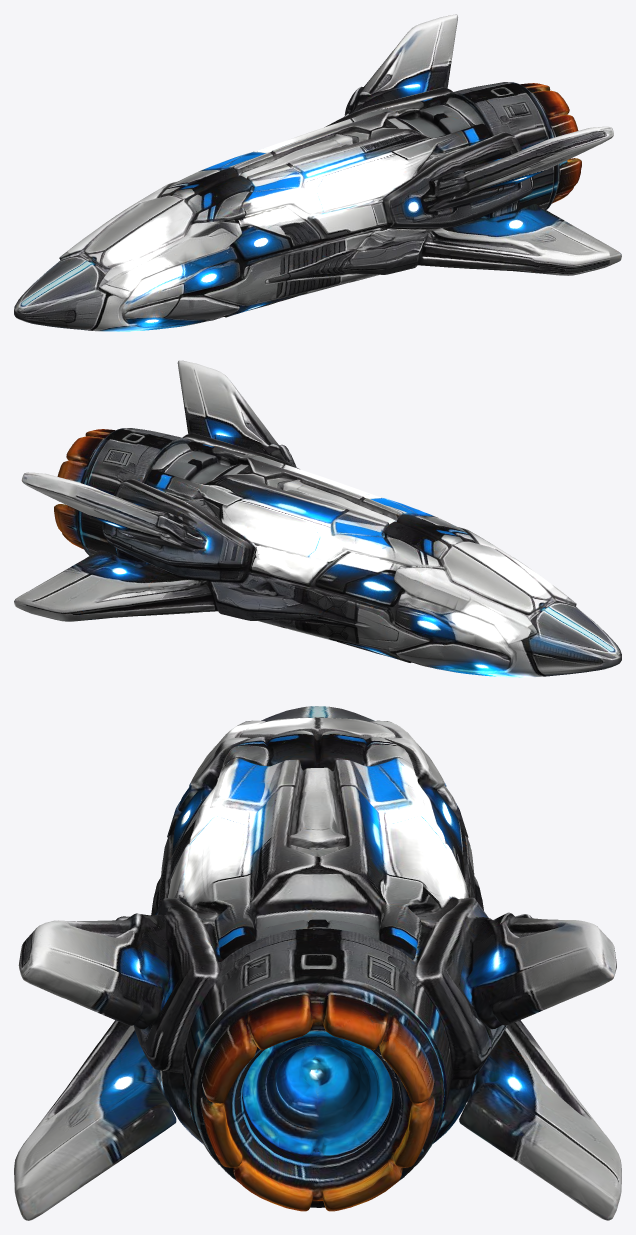
Rendered from wing_blaze.glb.
3 views of the same model, one above another, from view 1: azimuth 30°, elevation 25°; view 2: azimuth 150°, elevation 25°; view 3: azimuth 270°, elevation 25° (orthographic). The views are drawn at different scales.
Parts seen in each view (by area): view 1: mesh_node; view 2: mesh_node; view 3: mesh_node.
Boxes of the visible parts, left/top/right/bottom form: mesh_node: left=14, top=14, right=621, bottom=331; mesh_node: left=14, top=360, right=621, bottom=677; mesh_node: left=14, top=706, right=621, bottom=1220.
Bounding box in the file's own units: 1.9 × 0.5195 × 1.
1 material, 1 textured.
